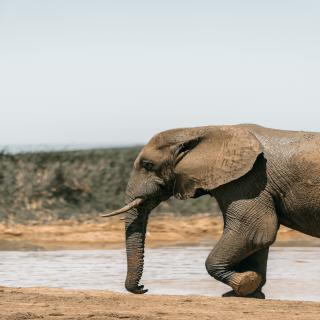Elephant: (95, 123, 320, 302)
